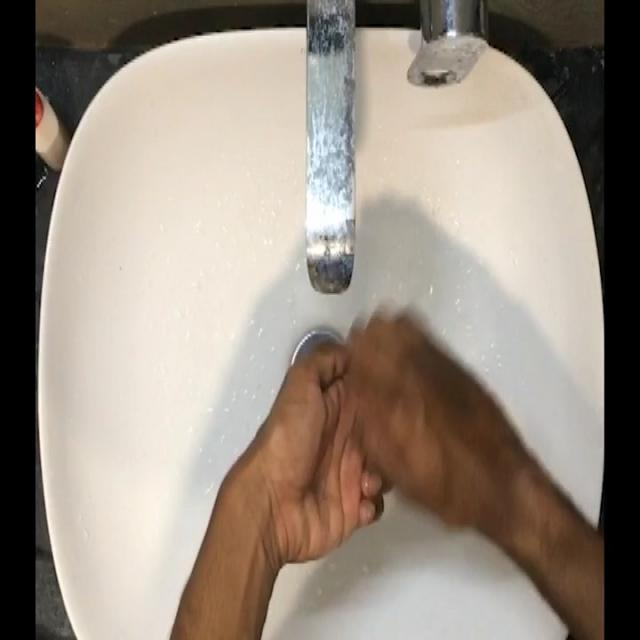step_4: (259, 294, 476, 564)
